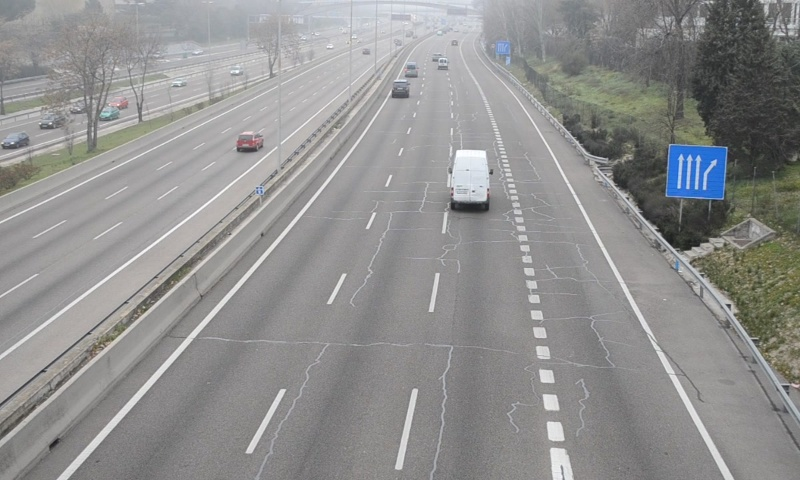car: (392, 78, 410, 98)
van: (450, 150, 492, 209), (404, 62, 416, 78)
